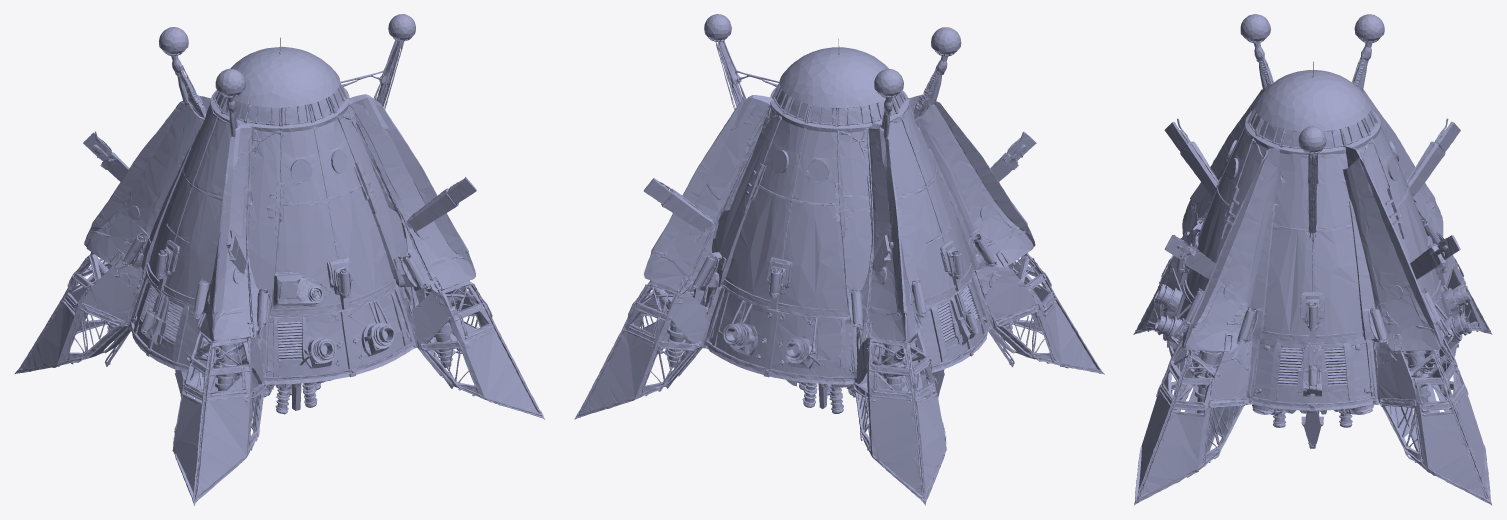
The model's file is spacenavevenus.glb.
3 views of the same model, side by side, from view 1: azimuth 30°, elevation 25°; view 2: azimuth 150°, elevation 25°; view 3: azimuth 270°, elevation 25° (orthographic).
Parts seen in each view (by area): view 1: spaceVenus; view 2: spaceVenus; view 3: spaceVenus.
Boxes of the visible parts, x1,y1,x2,y2 form: spaceVenus: [15, 14, 544, 505]; spaceVenus: [574, 14, 1104, 505]; spaceVenus: [1133, 14, 1492, 505].
Bounding box in the file's own units: 1.31 × 1.31 × 1.16.
